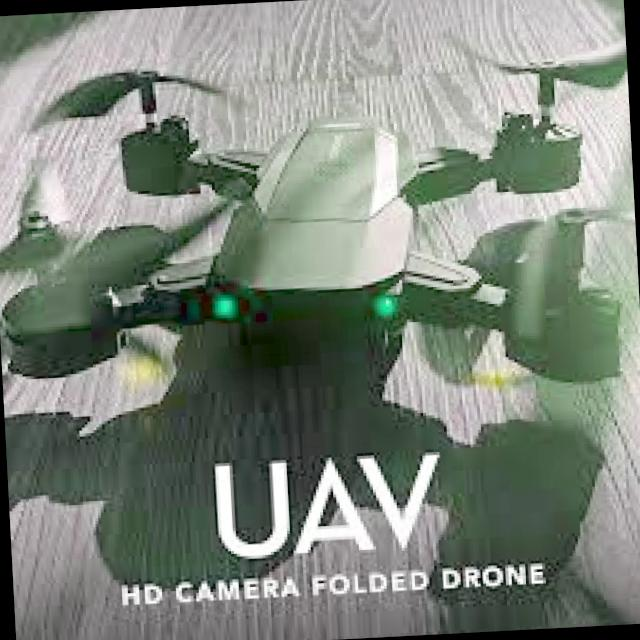drone: (0, 25, 640, 412)
